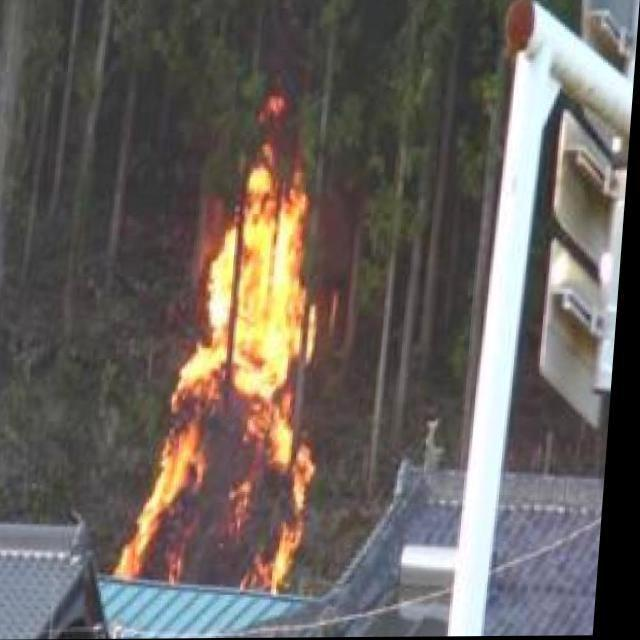fire: (135, 162, 341, 594)
